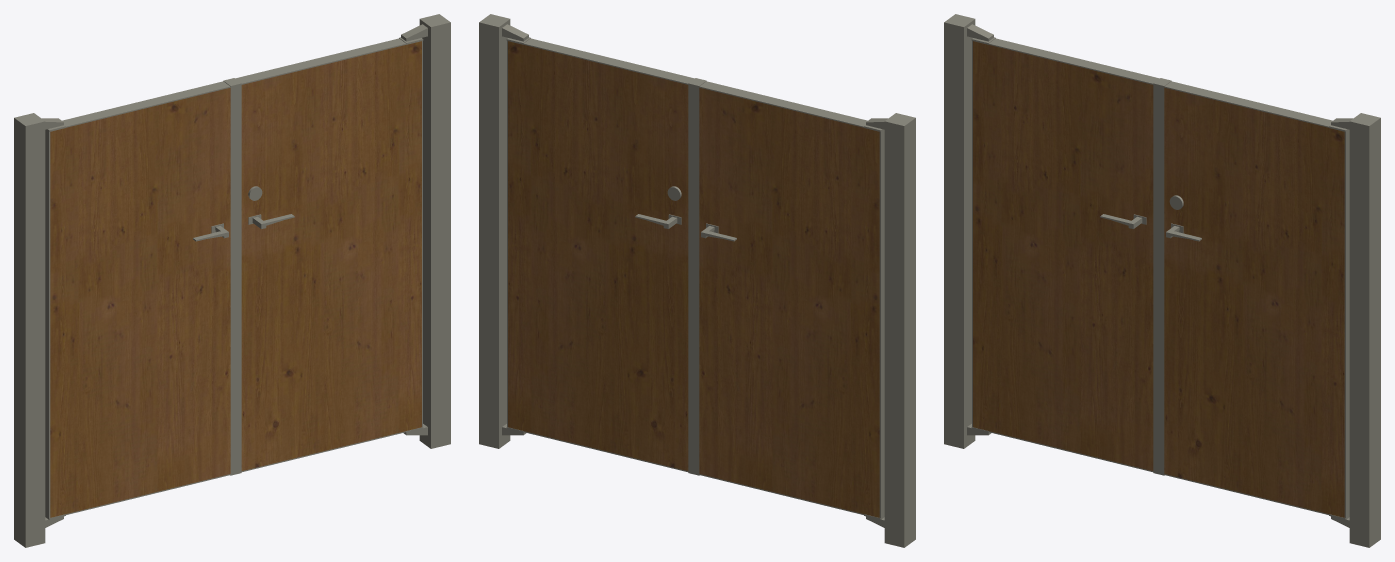
The model's file is abmonpi-flat_h1400-w700-700_naturalpine.fbx.
The picture shows the model from 3 angles, left to right: view 1: azimuth 30°, elevation 25°; view 2: azimuth 150°, elevation 25°; view 3: azimuth 330°, elevation 25°; orthographic projection.
Visible parts, largest first — view 1: abmonpi-flat_h1400-w700-700_brackebony.003; view 2: abmonpi-flat_h1400-w700-700_brackebony.003; view 3: abmonpi-flat_h1400-w700-700_brackebony.003.
Boxes of the visible parts, left/top/right/bottom form: abmonpi-flat_h1400-w700-700_brackebony.003: left=14, top=14, right=450, bottom=547; abmonpi-flat_h1400-w700-700_brackebony.003: left=479, top=14, right=915, bottom=547; abmonpi-flat_h1400-w700-700_brackebony.003: left=944, top=14, right=1380, bottom=547.
Size of the model in its own units: 160 by 152 by 16.7.
Materials: 2 (2 with a texture image).
